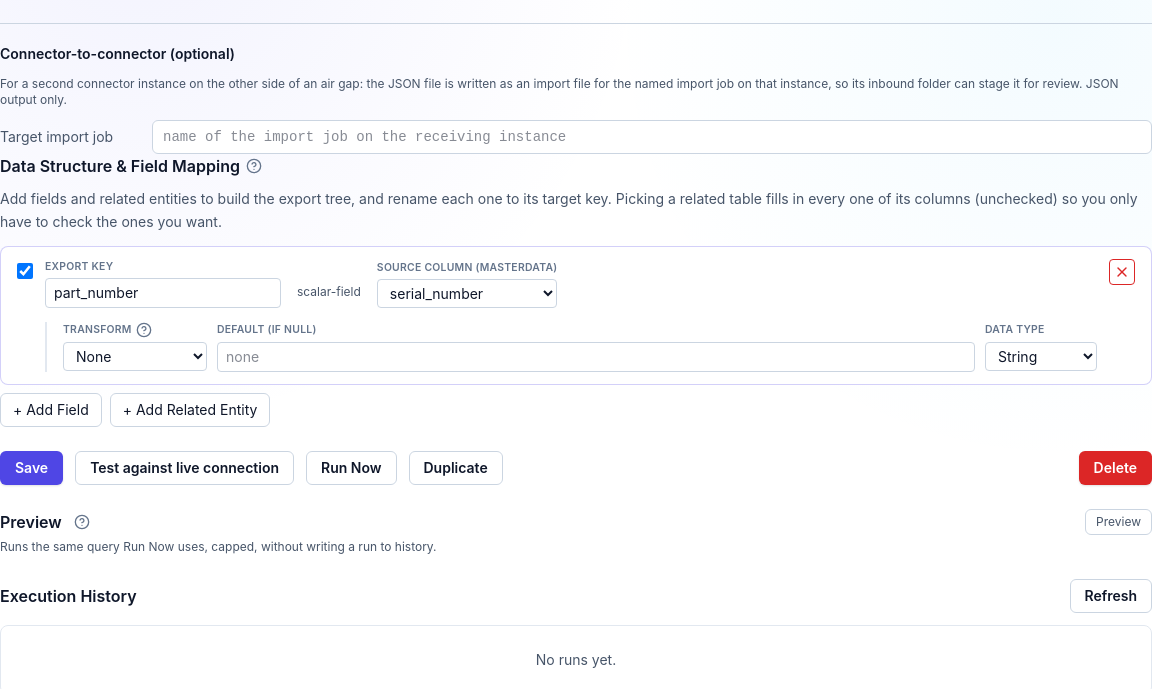
Test: ExportDefinitionEditView › previews the definition and renders the returned records
(page scrolled)
What coordinates should you click on to do the following:
click the button "Preview"
I would click on:
 (1118, 522)
Its box is left=1085, top=509, right=1151, bottom=535.
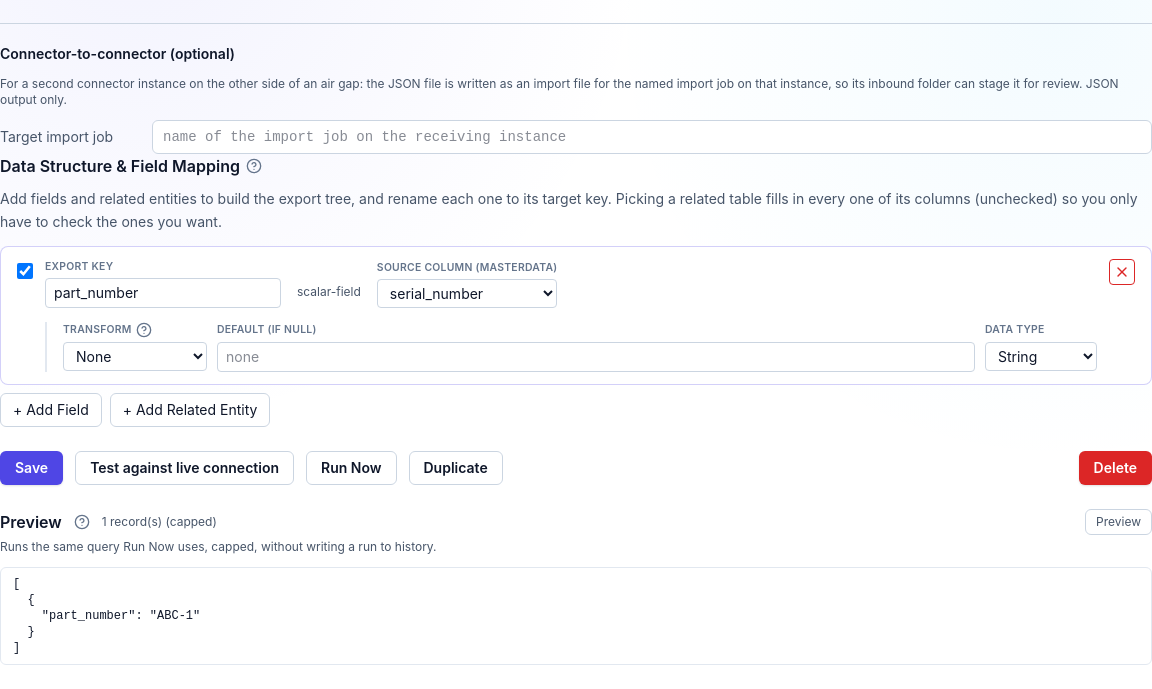
Result: the text "ABC-1" is shown at left=13, top=577, right=200, bottom=655
Result: the text "1 record(s) (capped)" is shown at left=102, top=514, right=217, bottom=530
